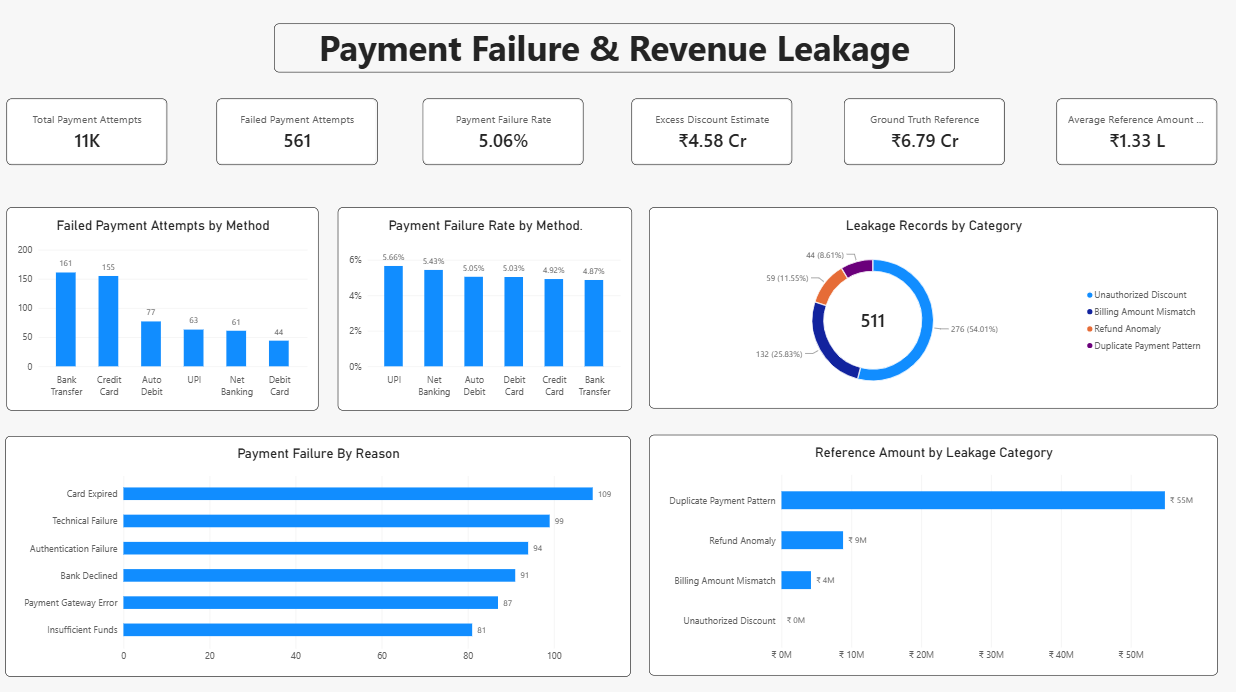

The page's visual inventory and layout, read from the dashboard file:
{"tool":"powerbi","page":{"name":"Payment Failure & Revenue Leakage Analysis.","canvas":[1920,1080],"ordinal":2},"visuals":[{"type":"textbox","box":[430,42.5,1047.5,75],"z":0},{"type":"cardVisual","title":"dbdb","fields":{"Data":["payments.Total Payment Attempts"]},"box":[18.3,157.7,247.5,102.5],"z":1000},{"type":"cardVisual","fields":{"Data":["payments.Failed Payment Attempts"]},"box":[342,157.4,247.6,102.7],"z":2000},{"type":"cardVisual","fields":{"Data":["payments.Payment Failure Rate"]},"box":[660.5,157.4,247.5,102.5],"z":3000},{"type":"clusteredBarChart","title":"Payment Failure By Reason ","fields":{"Category":["payments.failure_reason"],"Y":["payments.Failed Payment Attempts"]},"box":[18,676,962,370],"z":4000},{"type":"clusteredColumnChart","title":"Payment Failure Rate by Method.","fields":{"Category":["payments.payment_method"],"Y":["payments.Payment Failure Rate"]},"box":[528.2,324.6,452.5,312.5],"z":5000},{"type":"clusteredColumnChart","title":"Failed Payment Attempts by Method","fields":{"Category":["payments.payment_method"],"Y":["payments.Failed Payment Attempts"]},"box":[18.3,324.6,480,312.5],"z":6000},{"type":"donutChart","title":"Leakage Records by Category","fields":{"Category":["leakage_ground_truth.leakage_type"],"Y":["leakage_ground_truth.Total Leakage Records"]},"box":[1007,324.6,874.9,310],"z":7000},{"type":"cardVisual","fields":{"Data":["leakage_ground_truth.Total Reference Amount Display"]},"box":[1308.4,157.4,247.5,102.5],"z":8000},{"type":"cardVisual","fields":{"Data":["leakage_ground_truth.Average Reference Amount Display"]},"box":[1634.2,157.7,247.5,102.5],"z":9000},{"type":"clusteredBarChart","title":"Reference Amount by Leakage Category","fields":{"Category":["leakage_ground_truth.leakage_type"],"Y":["leakage_ground_truth.Total Reference Amount"]},"box":[1007,675,874.9,370.5],"z":10000},{"type":"cardVisual","fields":{"Data":["leakage_ground_truth.Estimated Excess Discount Display"]},"box":[980.8,157.4,247.5,102.5],"z":11000}]}

Visuals, with their boxes in screenshot pixels (x1, y1, x2, y2), scaled from the page's 1920x1080 canvas onto the 1236x692 screenshot:
textbox: region(277, 27, 951, 75)
"dbdb" cardVisual: region(12, 101, 171, 167)
cardVisual - payments.Failed Payment Attempts: region(220, 101, 380, 167)
cardVisual - payments.Payment Failure Rate: region(425, 101, 585, 167)
"Payment Failure By Reason " clusteredBarChart: region(12, 433, 631, 670)
"Payment Failure Rate by Method." clusteredColumnChart: region(340, 208, 631, 408)
"Failed Payment Attempts by Method" clusteredColumnChart: region(12, 208, 321, 408)
"Leakage Records by Category" donutChart: region(648, 208, 1211, 407)
cardVisual - leakage_ground_truth.Total Reference Amount Display: region(842, 101, 1002, 167)
cardVisual - leakage_ground_truth.Average Reference Amount Display: region(1052, 101, 1211, 167)
"Reference Amount by Leakage Category" clusteredBarChart: region(648, 432, 1211, 670)
cardVisual - leakage_ground_truth.Estimated Excess Discount Display: region(631, 101, 791, 167)
